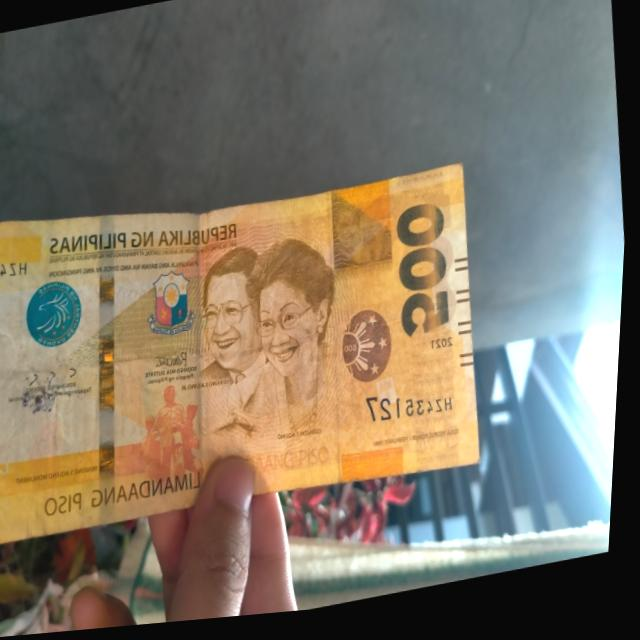concealed_value: (327, 179, 402, 280)
optically_variable_device: (333, 302, 415, 412)
security_thread: (74, 209, 151, 528)
